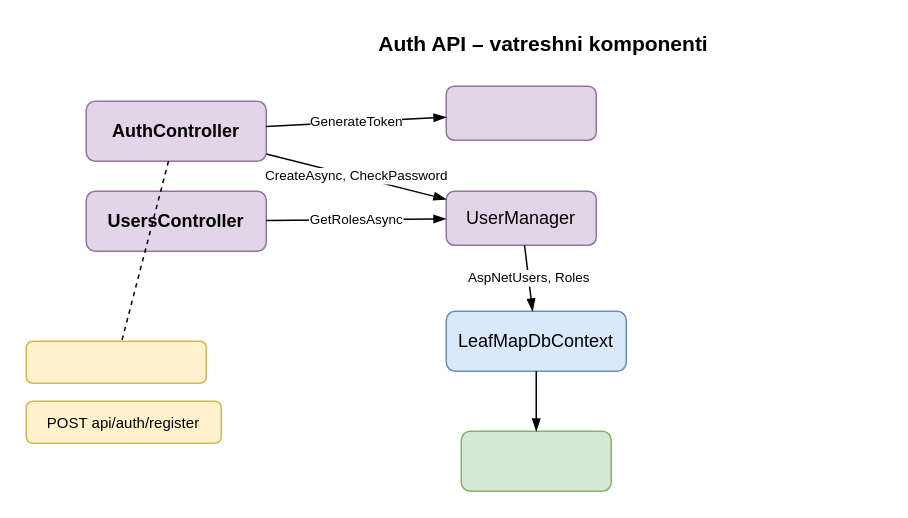
This 908x518 diagram has some shape labels left out. The centre of each missing label's shape, as x and y in pixels:
"JwtService" belongs at point (520, 112).
"POST api/auth/login" belongs at point (115, 361).
"SQL Server" belongs at point (535, 460).
